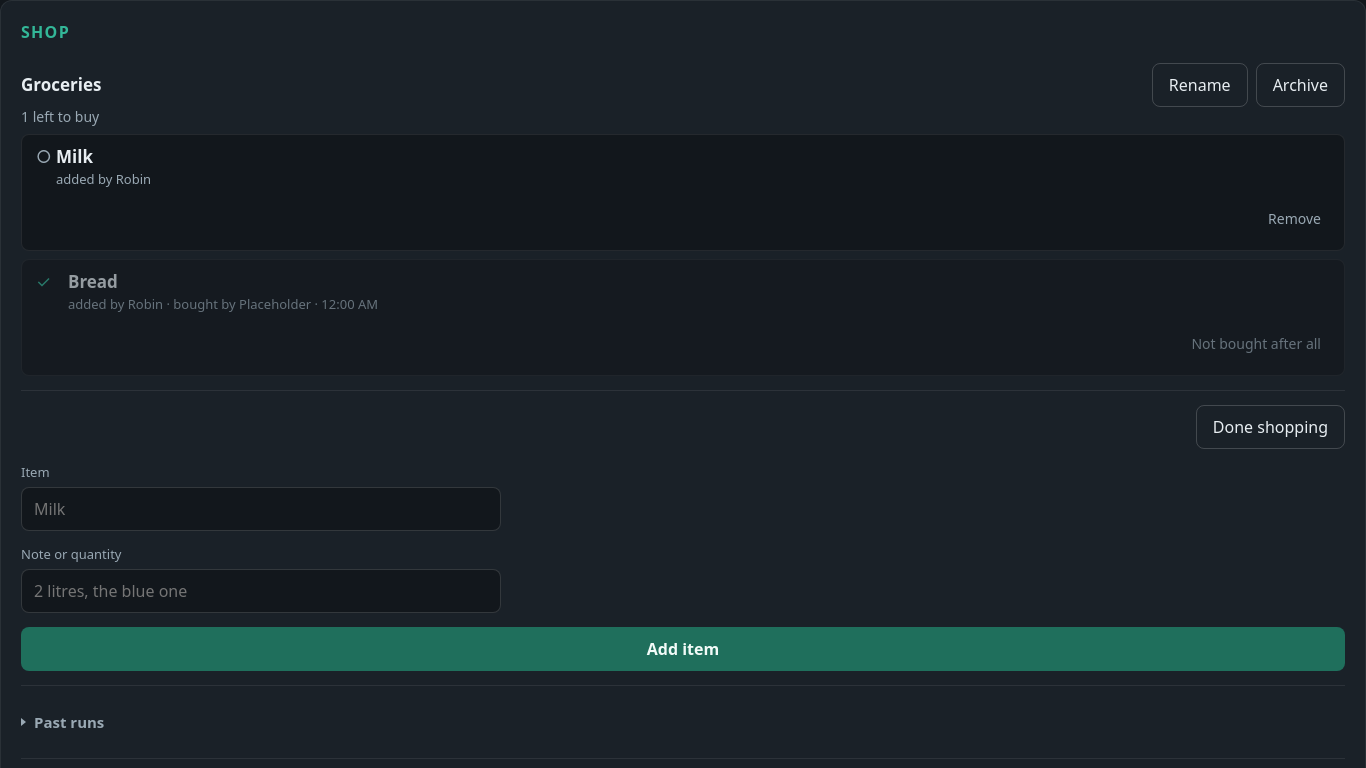
Scenario: #357 AC 1 — the first tap is a question, not a write › says one ITEM, singular, when exactly one is left
Click the button "Done shopping".
click(1270, 427)  # box [1196,405,1345,449]
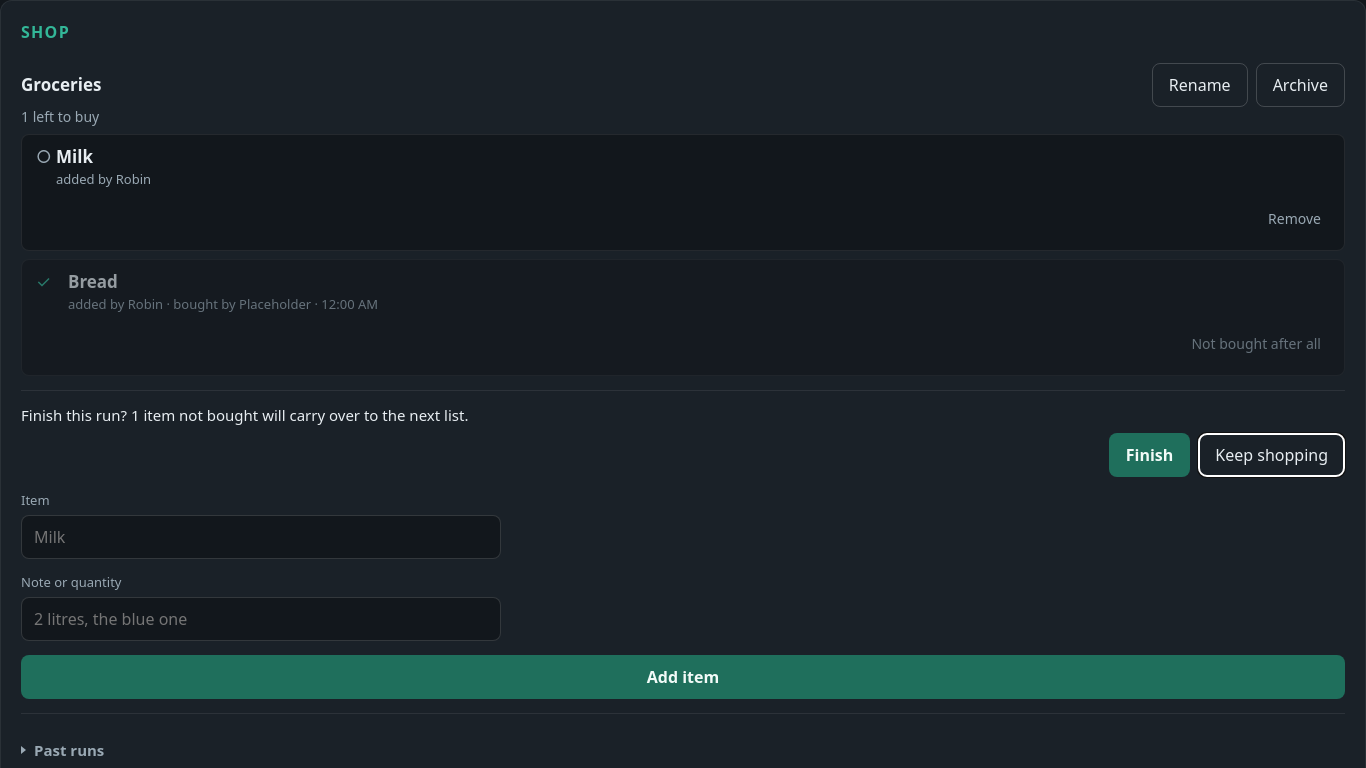
Expected: the text "Finish this run? 1 item not bought will carry over to the next list." is shown, [21,405,468,425]
